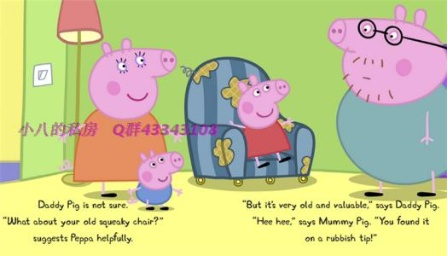Peppa: (229, 75, 296, 170)
